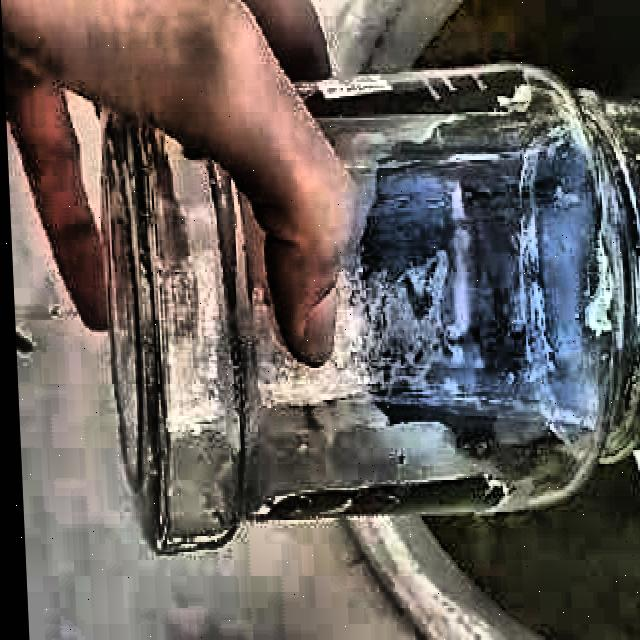glass: (101, 61, 640, 552)
